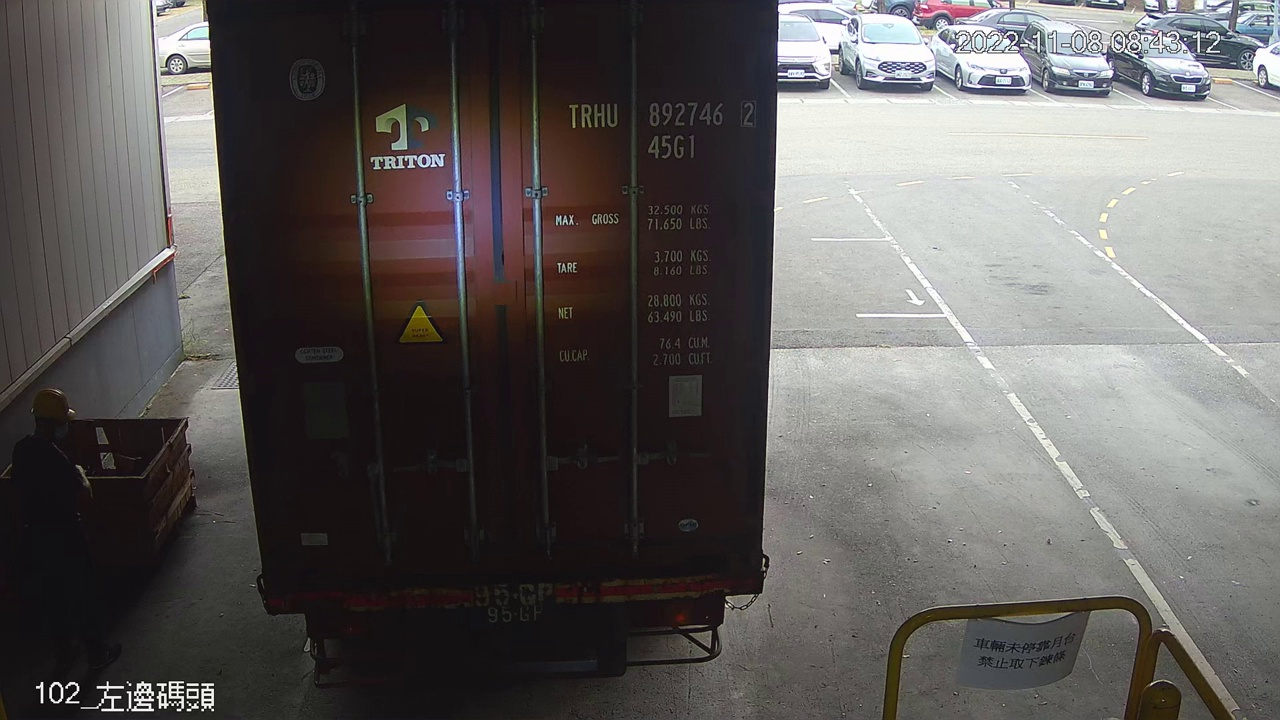container: (556, 91, 765, 167)
